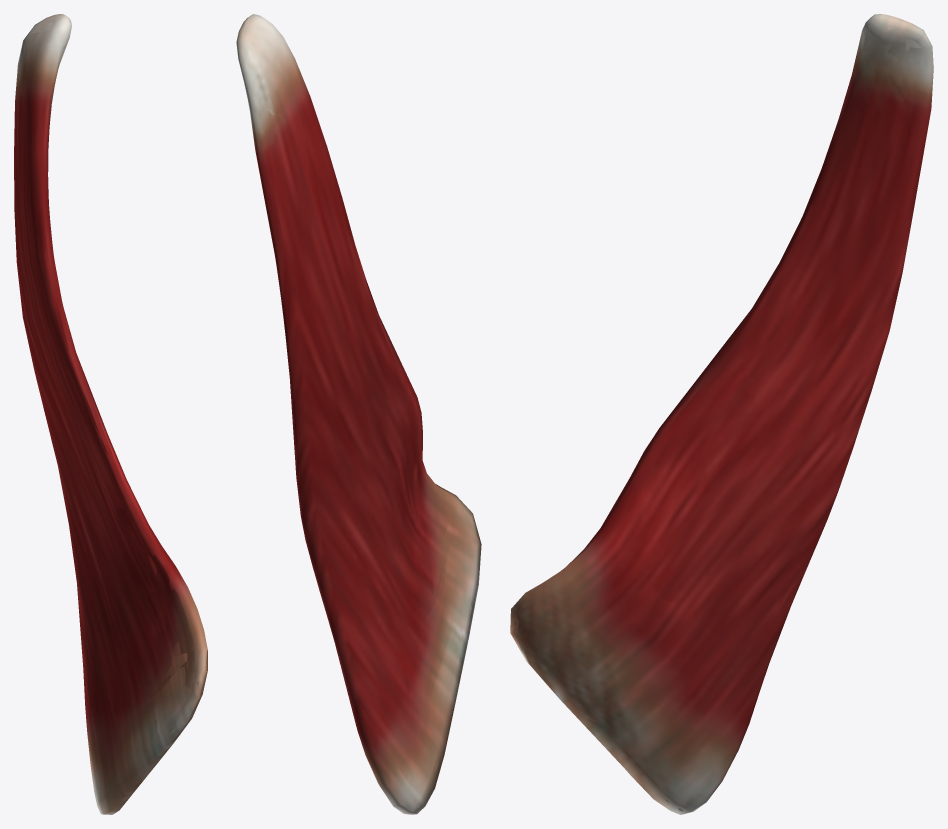
The model's file is R Semimembranosus.fbx.
The picture shows the model from 3 angles, left to right: view 1: azimuth 30°, elevation 25°; view 2: azimuth 150°, elevation 25°; view 3: azimuth 270°, elevation 25°; orthographic projection. The views are drawn at different scales.
Visible parts, largest first — view 1: R Semimembranosus, R Semimembranosus low, R Semimembranosus high; view 2: R Semimembranosus, R Semimembranosus low, R Semimembranosus high; view 3: R Semimembranosus, R Semimembranosus low, R Semimembranosus high.
Boxes of the visible parts, <box> form: R Semimembranosus: <box>14,14,207,814</box>; R Semimembranosus low: <box>16,14,207,814</box>; R Semimembranosus high: <box>15,19,206,808</box>; R Semimembranosus: <box>236,14,481,814</box>; R Semimembranosus low: <box>237,14,480,810</box>; R Semimembranosus high: <box>243,24,475,807</box>; R Semimembranosus: <box>510,14,933,814</box>; R Semimembranosus low: <box>511,14,933,814</box>; R Semimembranosus high: <box>514,18,932,811</box>.
Bounding box in the file's own units: 0.9656 × 10.99 × 5.11.
